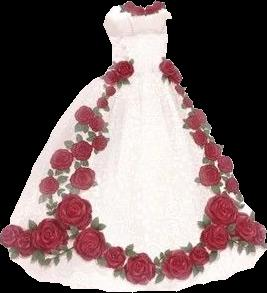Bodice: (103, 0, 171, 81)
Neckline: (102, 0, 167, 24)
Skirt: (0, 68, 266, 291)
Waistline: (0, 235, 266, 292)
